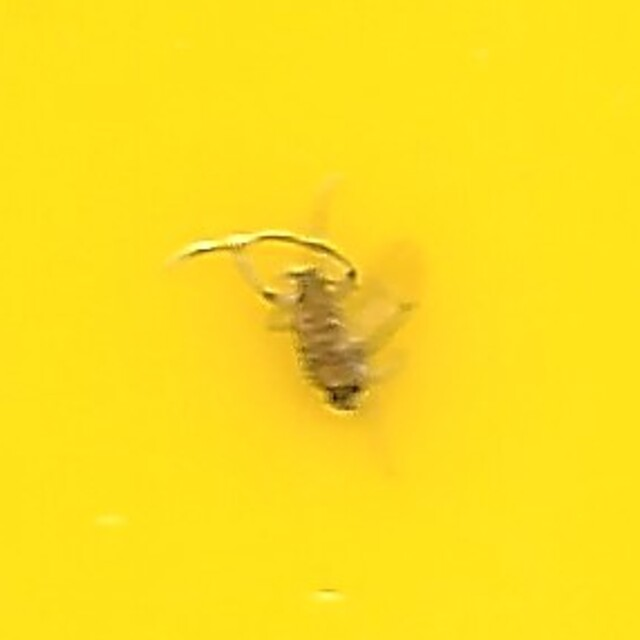Nematocera: (224, 221, 416, 419)
